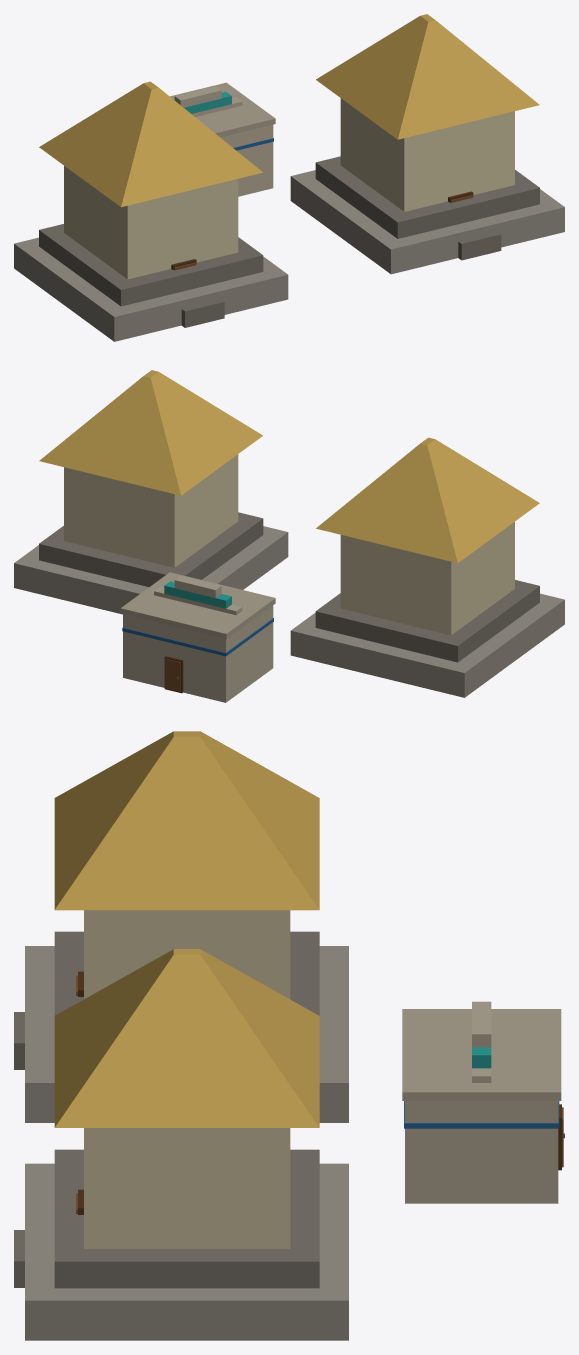
File: frog_row.glb
The picture shows the model from 3 angles, top to bottom: view 1: azimuth 30°, elevation 25°; view 2: azimuth 150°, elevation 25°; view 3: azimuth 270°, elevation 25°; orthographic projection. The views are drawn at different scales.
Parts seen in each view (by area): view 1: frog_row; view 2: frog_row; view 3: frog_row.
Boxes of the visible parts, x1,y1,x2,y2 form: frog_row: [14, 14, 564, 341]; frog_row: [14, 370, 564, 702]; frog_row: [14, 731, 564, 1340].
Size of the model in its own units: 5.7 by 2.4 by 3.74.
